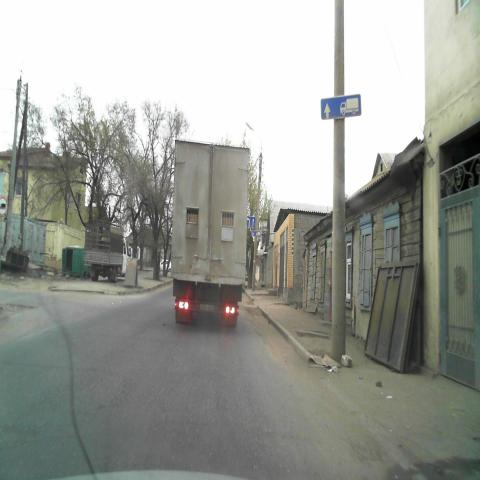6_15_1: (320, 92, 362, 118)
